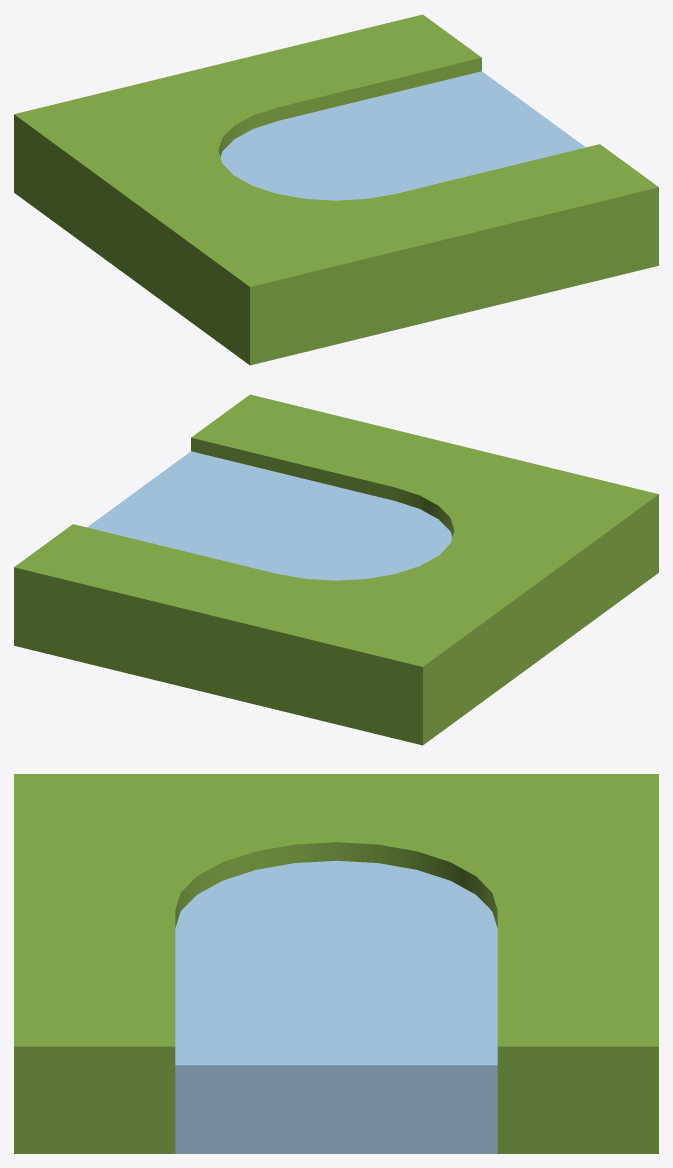
The model's file is tile152.dae.
3 renders of one model, top to bottom at view 1: azimuth 30°, elevation 25°; view 2: azimuth 150°, elevation 25°; view 3: azimuth 270°, elevation 25°, orthographic. The views are drawn at different scales.
Parts seen in each view (by area): view 1: tile152; view 2: tile152; view 3: tile152.
Part boxes in pixels (x1,y1,x2,y2): tile152: [14, 14, 658, 365]; tile152: [14, 394, 658, 745]; tile152: [14, 774, 658, 1153].
Bounding box in the file's own units: 1 × 0.1833 × 1.
